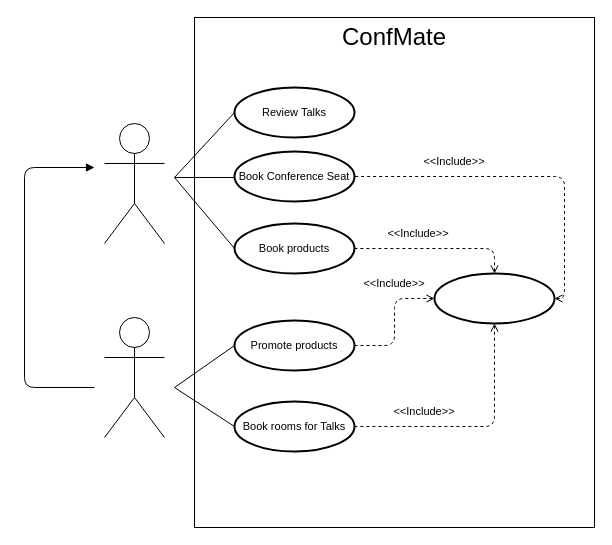
The diagram is 612 pixels wide and 545 high, and some of its shapes have lost their labels. Here are the shapes that lost their labels. From the top down, the box of each, then its label:
(104, 122, 164, 244): Attendee
(433, 272, 555, 324): Login
(104, 316, 164, 438): Host
